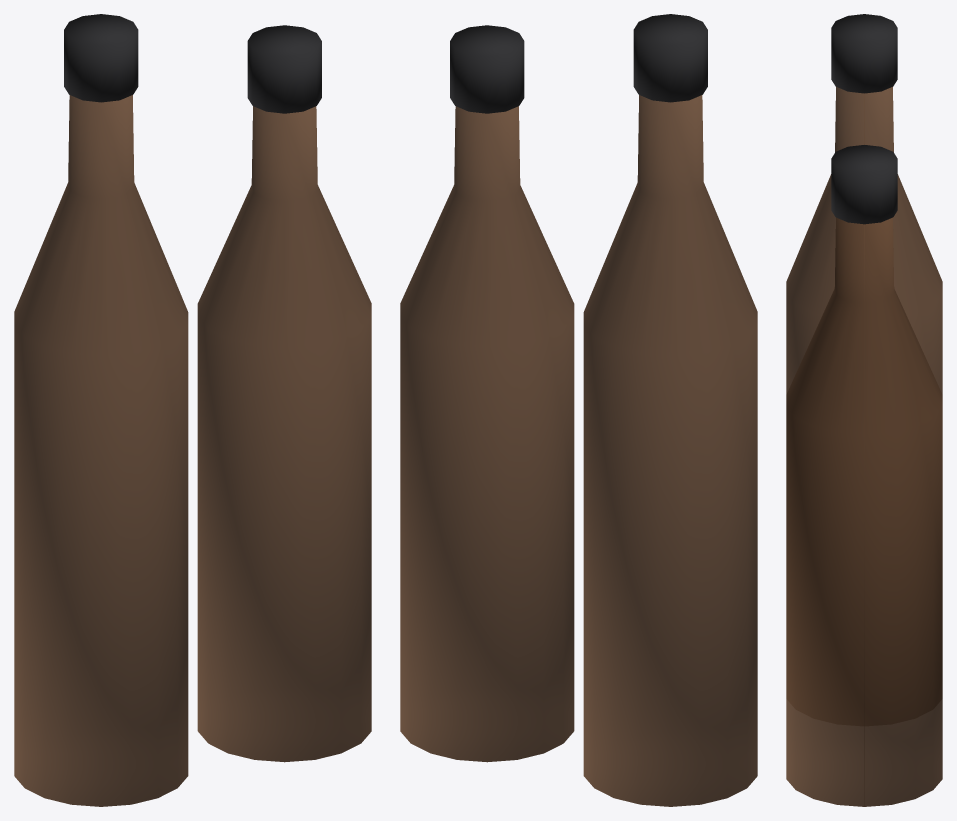
Rendered from i_bottle_3.glb.
3 views of the same model, side by side, from view 1: azimuth 30°, elevation 25°; view 2: azimuth 150°, elevation 25°; view 3: azimuth 270°, elevation 25° (orthographic). The views are drawn at different scales.
Visible parts, largest first — view 1: o, o.002, o.001, o.003; view 2: o, o.002, o.001, o.003; view 3: o.002, o, o.001, o.003.
Boxes of the visible parts, x1=… form: o: x1=14, y1=95, x2=188, y2=806; o.002: x1=197, y1=106, x2=371, y2=762; o.001: x1=64, y1=14, x2=138, y2=102; o.003: x1=247, y1=25, x2=321, y2=113; o: x1=583, y1=95, x2=757, y2=806; o.002: x1=400, y1=106, x2=574, y2=762; o.001: x1=633, y1=14, x2=707, y2=102; o.003: x1=450, y1=25, x2=524, y2=113; o.002: x1=786, y1=217, x2=942, y2=806; o: x1=786, y1=87, x2=942, y2=394; o.001: x1=831, y1=14, x2=897, y2=93; o.003: x1=831, y1=145, x2=897, y2=224.
Size of the model in its own units: 0.1232 by 0.2589 by 0.0551.
